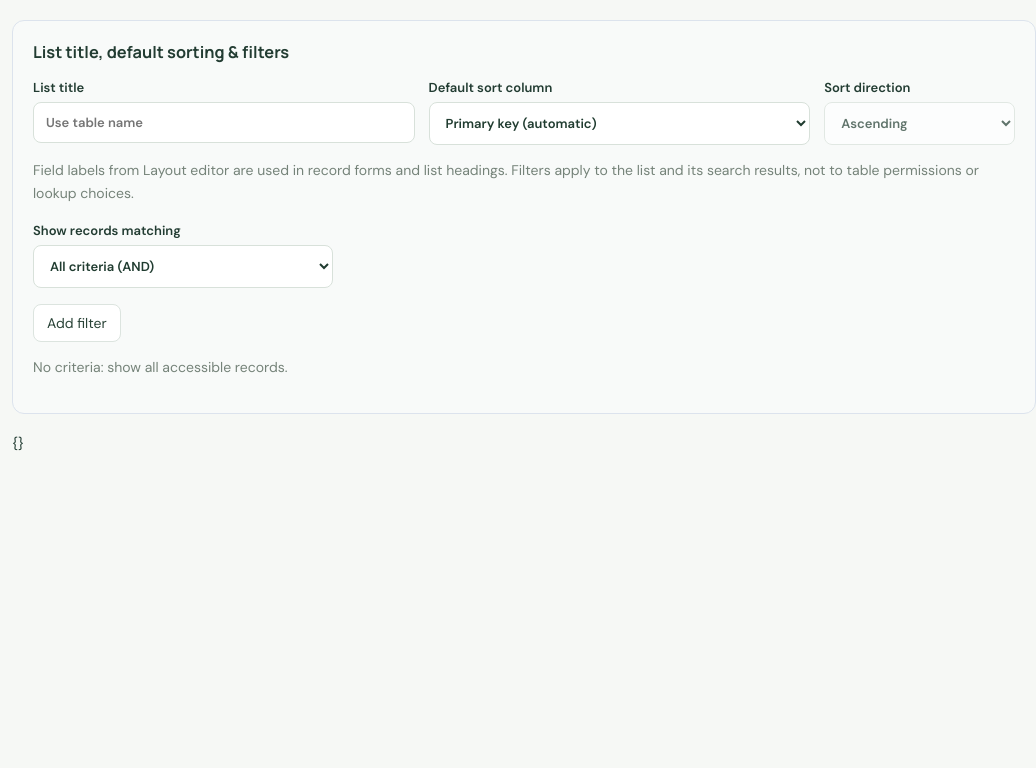
Test: only offers text matching for text columns and keeps large numeric inputs as strings
This screenshot has width=1036, height=768.
Click the button "Add filter". click: coordinates (77, 323)
box: 33,304 -> 121,342
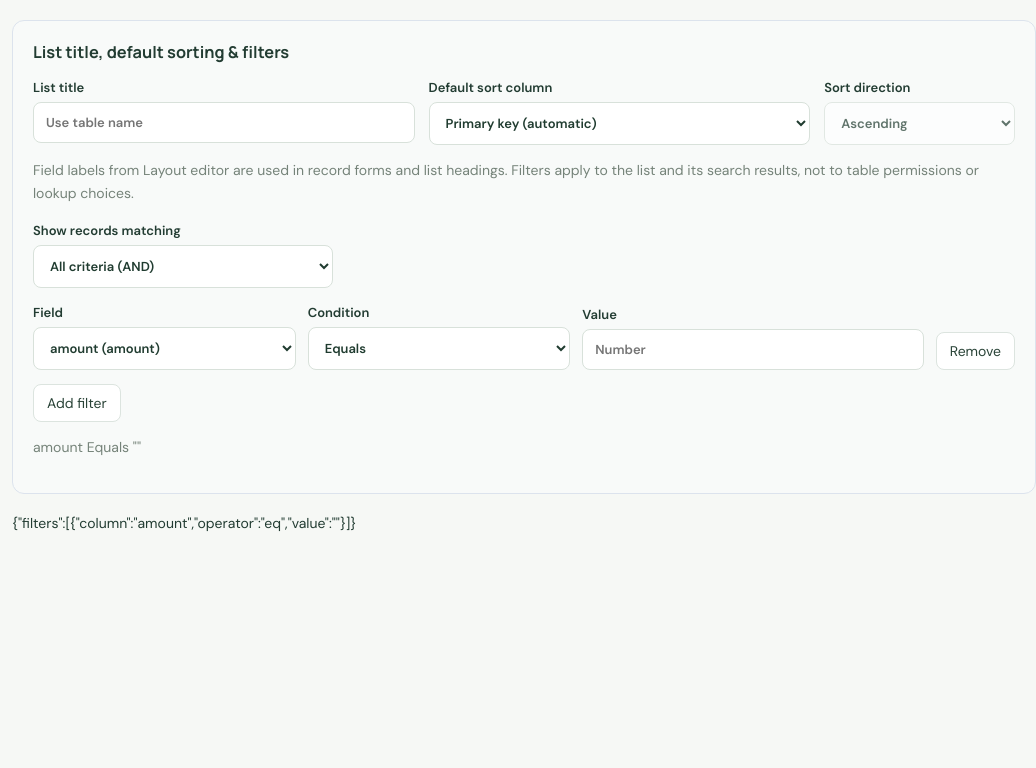
Type "9007199254740993.1234" into the field named "Filter 1 value". click: coordinates (753, 349)
box: 582,329 -> 924,370
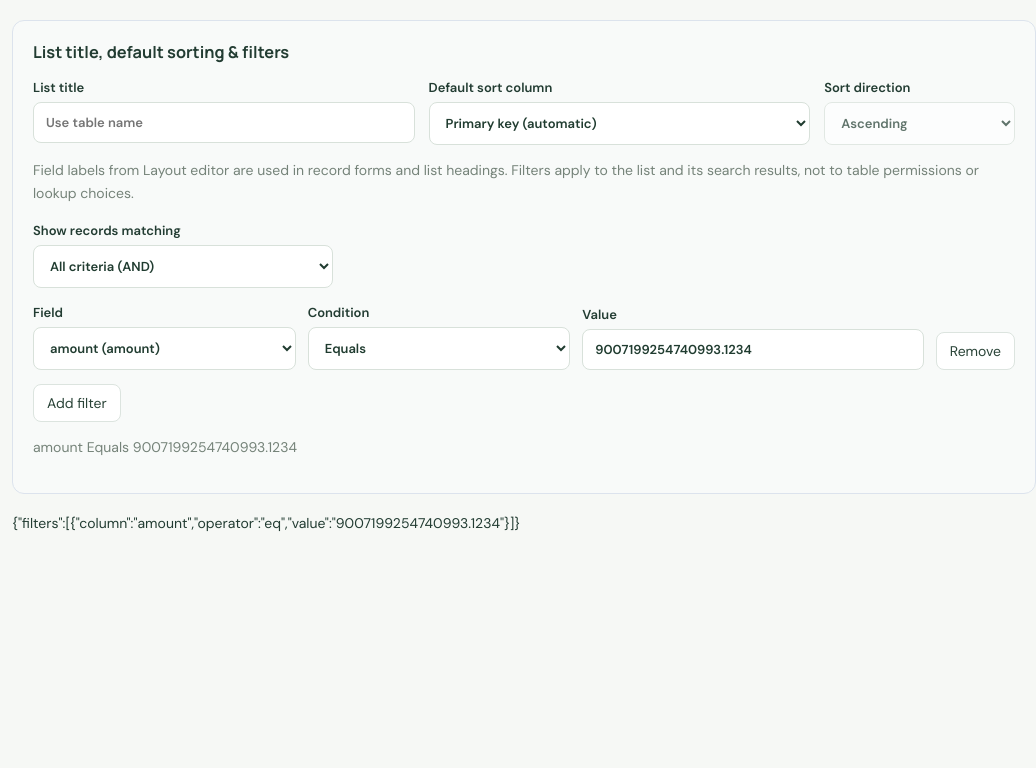
Check: the text "\"value\":\"9007199254740993.1234\"" is shown, box 12,514 -> 520,532
Select "Is NULL" in the dropdown named "Filter 1 condition". click: coordinates (439, 348)
box: 308,327 -> 570,370
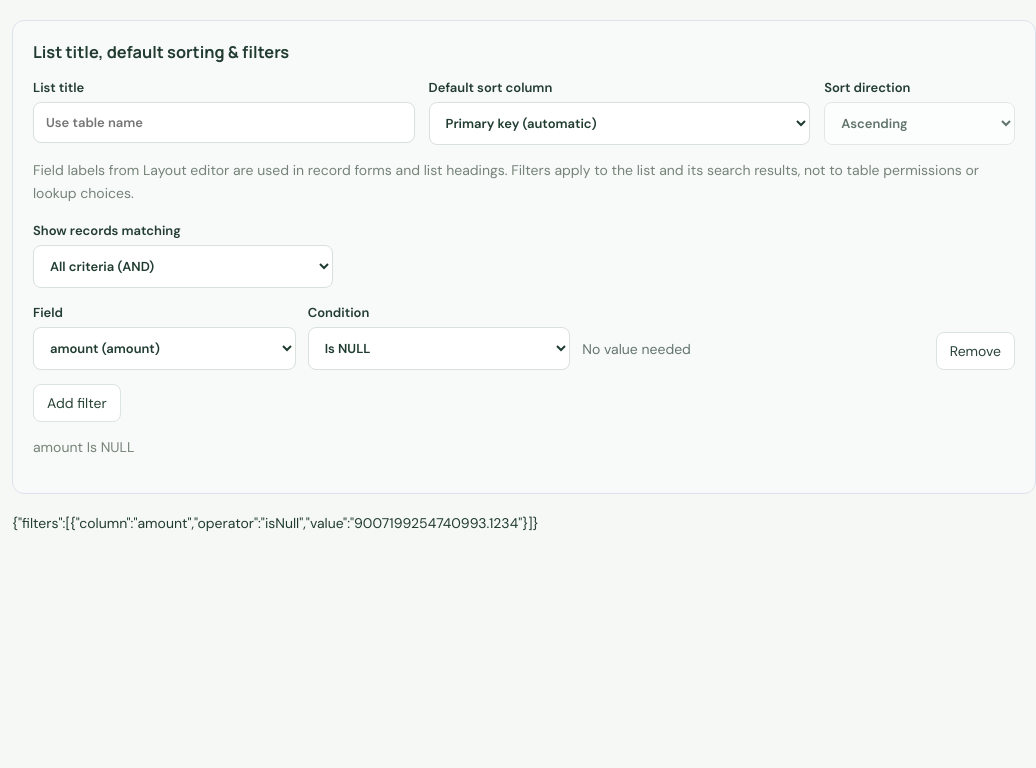
Check: the field labelled "Filter 1 value" is gone
Click the button with aria-label "Remove filter 1". click: coordinates (975, 351)
box: 936,332 -> 1015,370
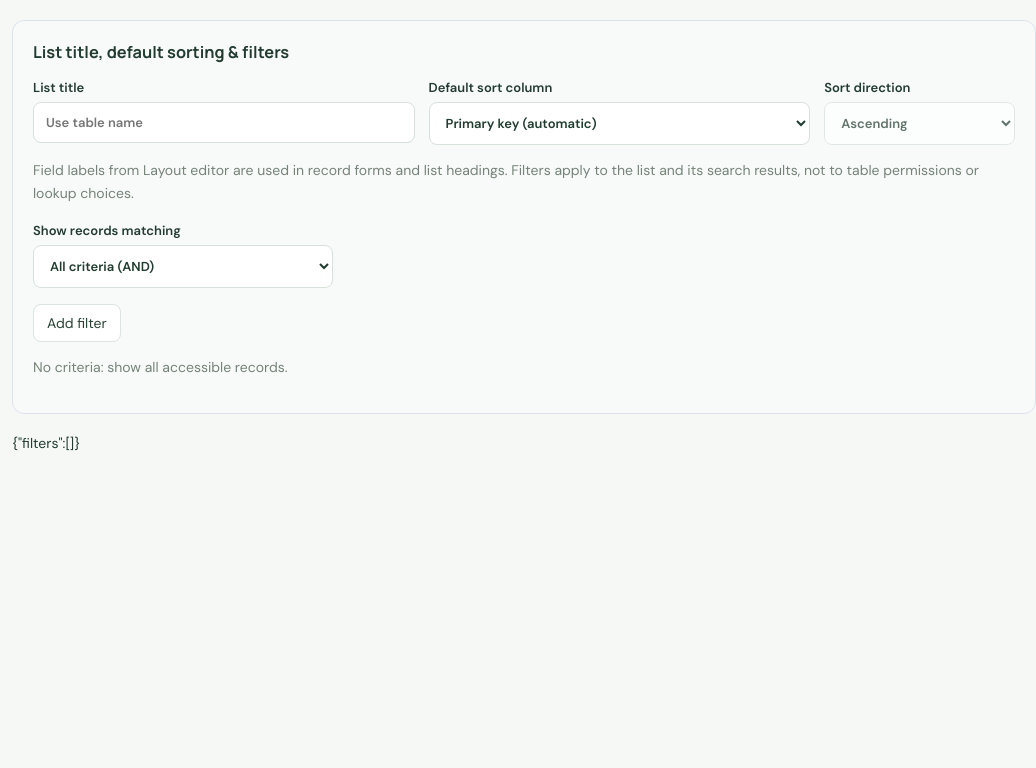
Check: the text "{\"filters\":[]}" shows "\"filters\":[]", box 12,434 -> 80,452
